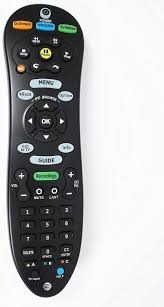remote control: (1, 3, 87, 298)
